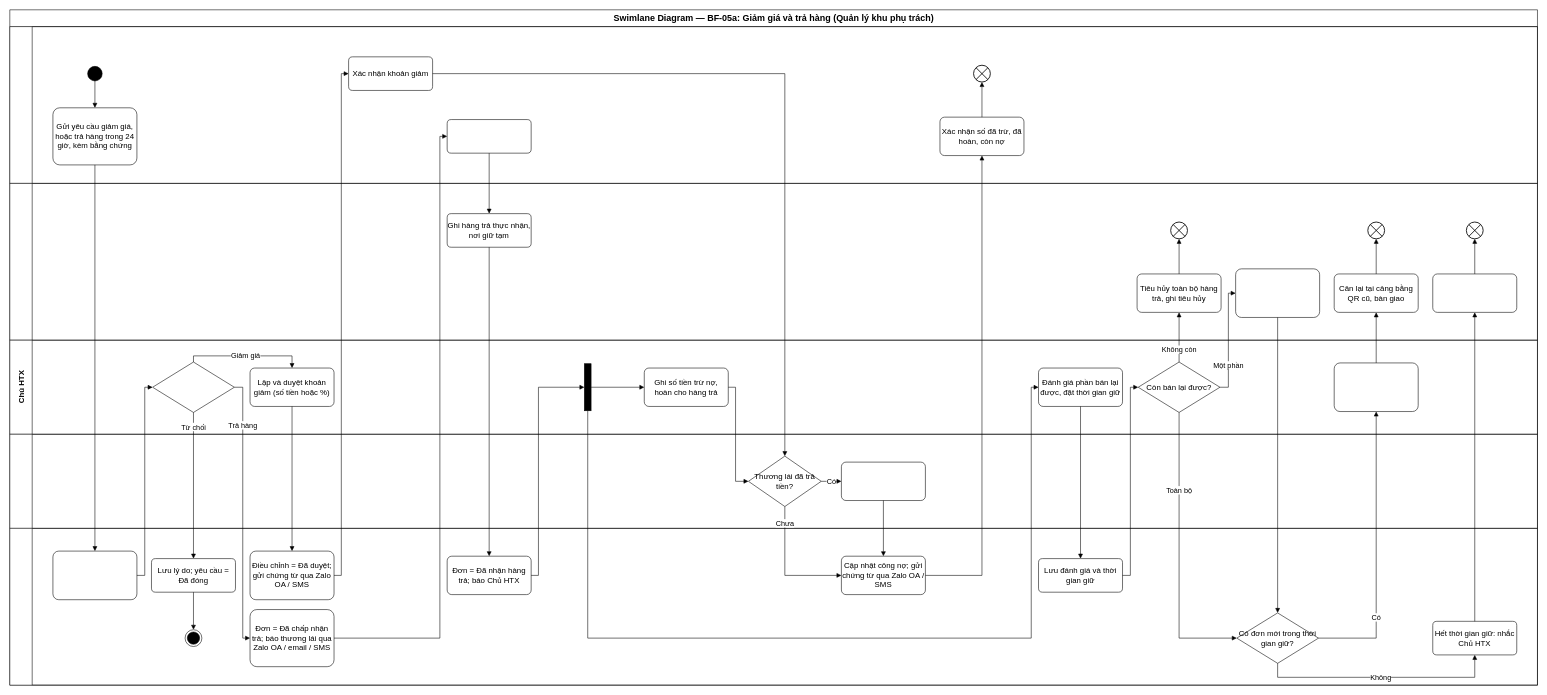
The diagram is 1547 pixels wide and 695 high, and some of its shapes have lost their labels. The shapes that lost their labels are listed below. From the top down, each one's box as (x1, y1, x2, y2) in pixels, then its label:
(9, 26, 1537, 183): Thương lái
(447, 119, 531, 153): Trả lại toàn bộ đơn hàng
(9, 183, 1537, 340): Quản lý khu
(1235, 268, 1320, 317): Tiêu hủy phần không bán lại được, ghi tiêu hủy
(1432, 273, 1517, 312): Tiêu hủy hàng hết thời gian giữ, ghi tiêu hủy
(152, 361, 234, 412): Cách xử lý?
(1334, 362, 1418, 412): Gắn hàng trả vào đơn mới, xác nhận đơn (không thu hoạch)
(9, 434, 1537, 528): Kế toán
(841, 462, 925, 501): Trừ nợ còn lại, hoàn phần đã trả dư; ghi tiền hoàn
(52, 551, 137, 600): Lưu yêu cầu; trạng thái = Chờ quyết định; báo Chủ HTX
(9, 528, 1537, 685): Hệ thống OMTS
